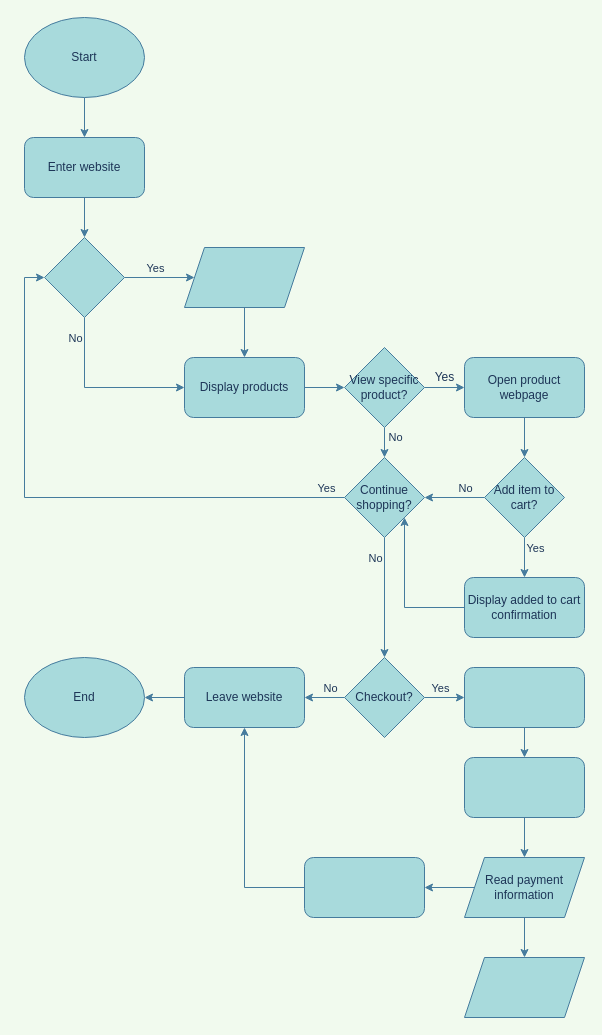
The diagram is 602 pixels wide and 1035 high, and some of its shapes have lost their labels. The shapes that lost their labels are listed below. From the top down, each one's centre as x and y in pixels, then its label:
At point 84,277: "Search for product?".
At point 244,277: "Read search".
At point 524,697: "Display View Cart screen".
At point 524,787: "Display View Payment screen".
At point 364,887: "Display order confirmation screen".
At point 524,987: "Send email".
